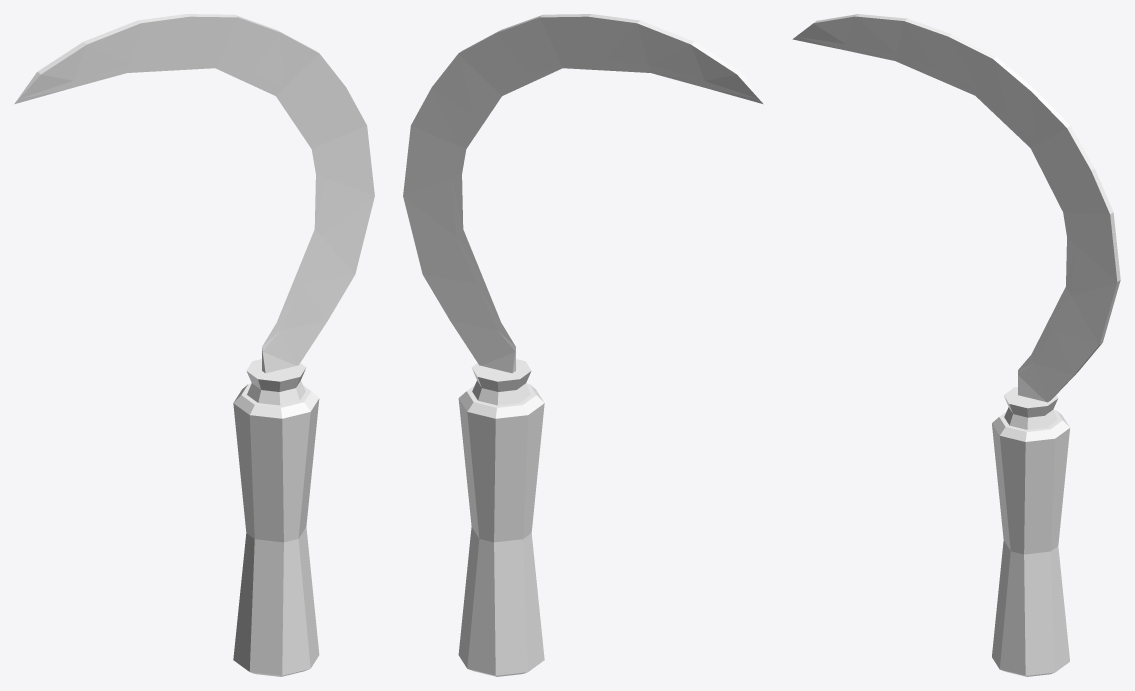
Rendered from Tool_Hand_Scythe_01.glb.
The picture shows the model from 3 angles, left to right: view 1: azimuth 30°, elevation 25°; view 2: azimuth 150°, elevation 25°; view 3: azimuth 330°, elevation 25°; orthographic projection. The views are drawn at different scales.
Visible parts, largest first — view 1: Tool_Hand Scythe_01; view 2: Tool_Hand Scythe_01; view 3: Tool_Hand Scythe_01.
Boxes of the visible parts, x1,y1,x2,y2 form: Tool_Hand Scythe_01: [14, 14, 374, 676]; Tool_Hand Scythe_01: [403, 14, 763, 676]; Tool_Hand Scythe_01: [792, 14, 1120, 676].
Bounding box in the file's own units: 0.2845 × 0.5102 × 0.0552.
1 material, 1 textured.
